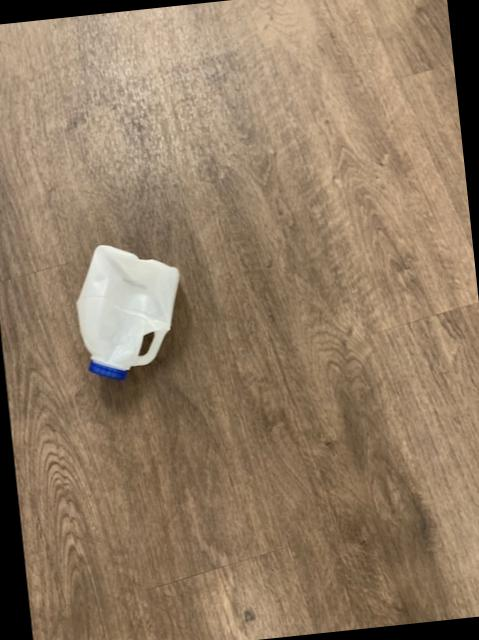plastic: (77, 243, 179, 377)
